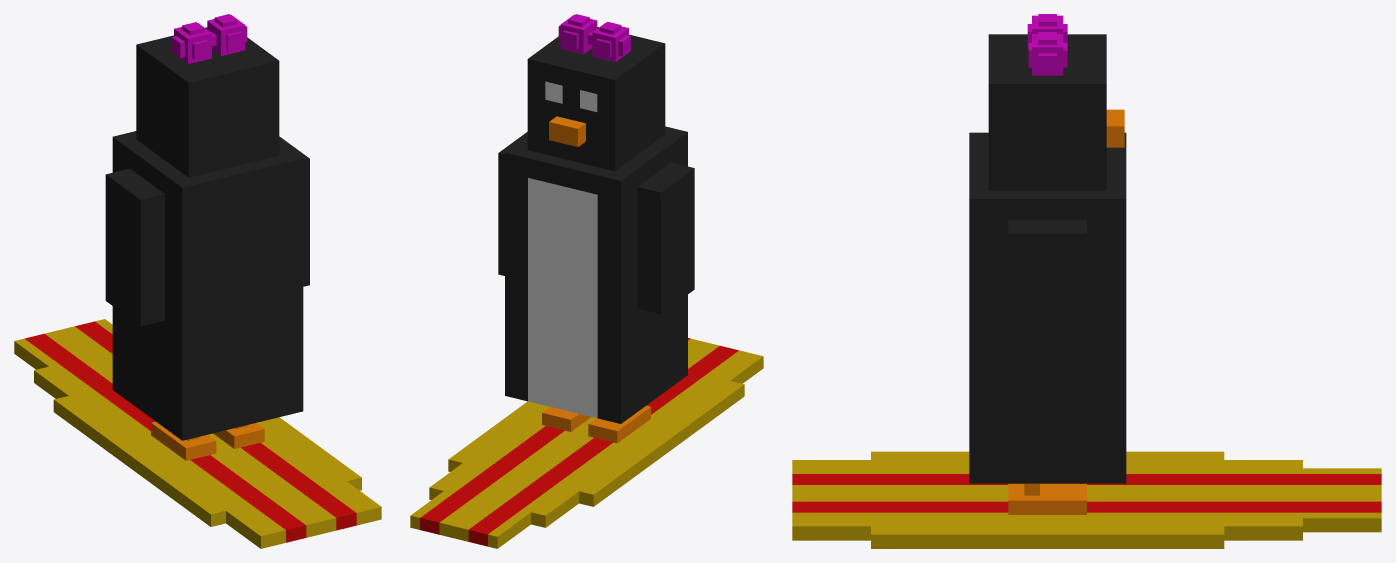
Rendered from penguin.fbx.
3 views of the same model, side by side, from view 1: azimuth 30°, elevation 25°; view 2: azimuth 150°, elevation 25°; view 3: azimuth 270°, elevation 25° (orthographic). The views are drawn at different scales.
Visible parts, largest first — view 1: pCube25; view 2: pCube25; view 3: pCube25.
Part boxes in pixels (<box>): pCube25: <box>14,14,381,548</box>; pCube25: <box>410,14,763,548</box>; pCube25: <box>792,14,1381,548</box>.
Bounding box in the file's own units: 1.4 × 3.38 × 3.75.
